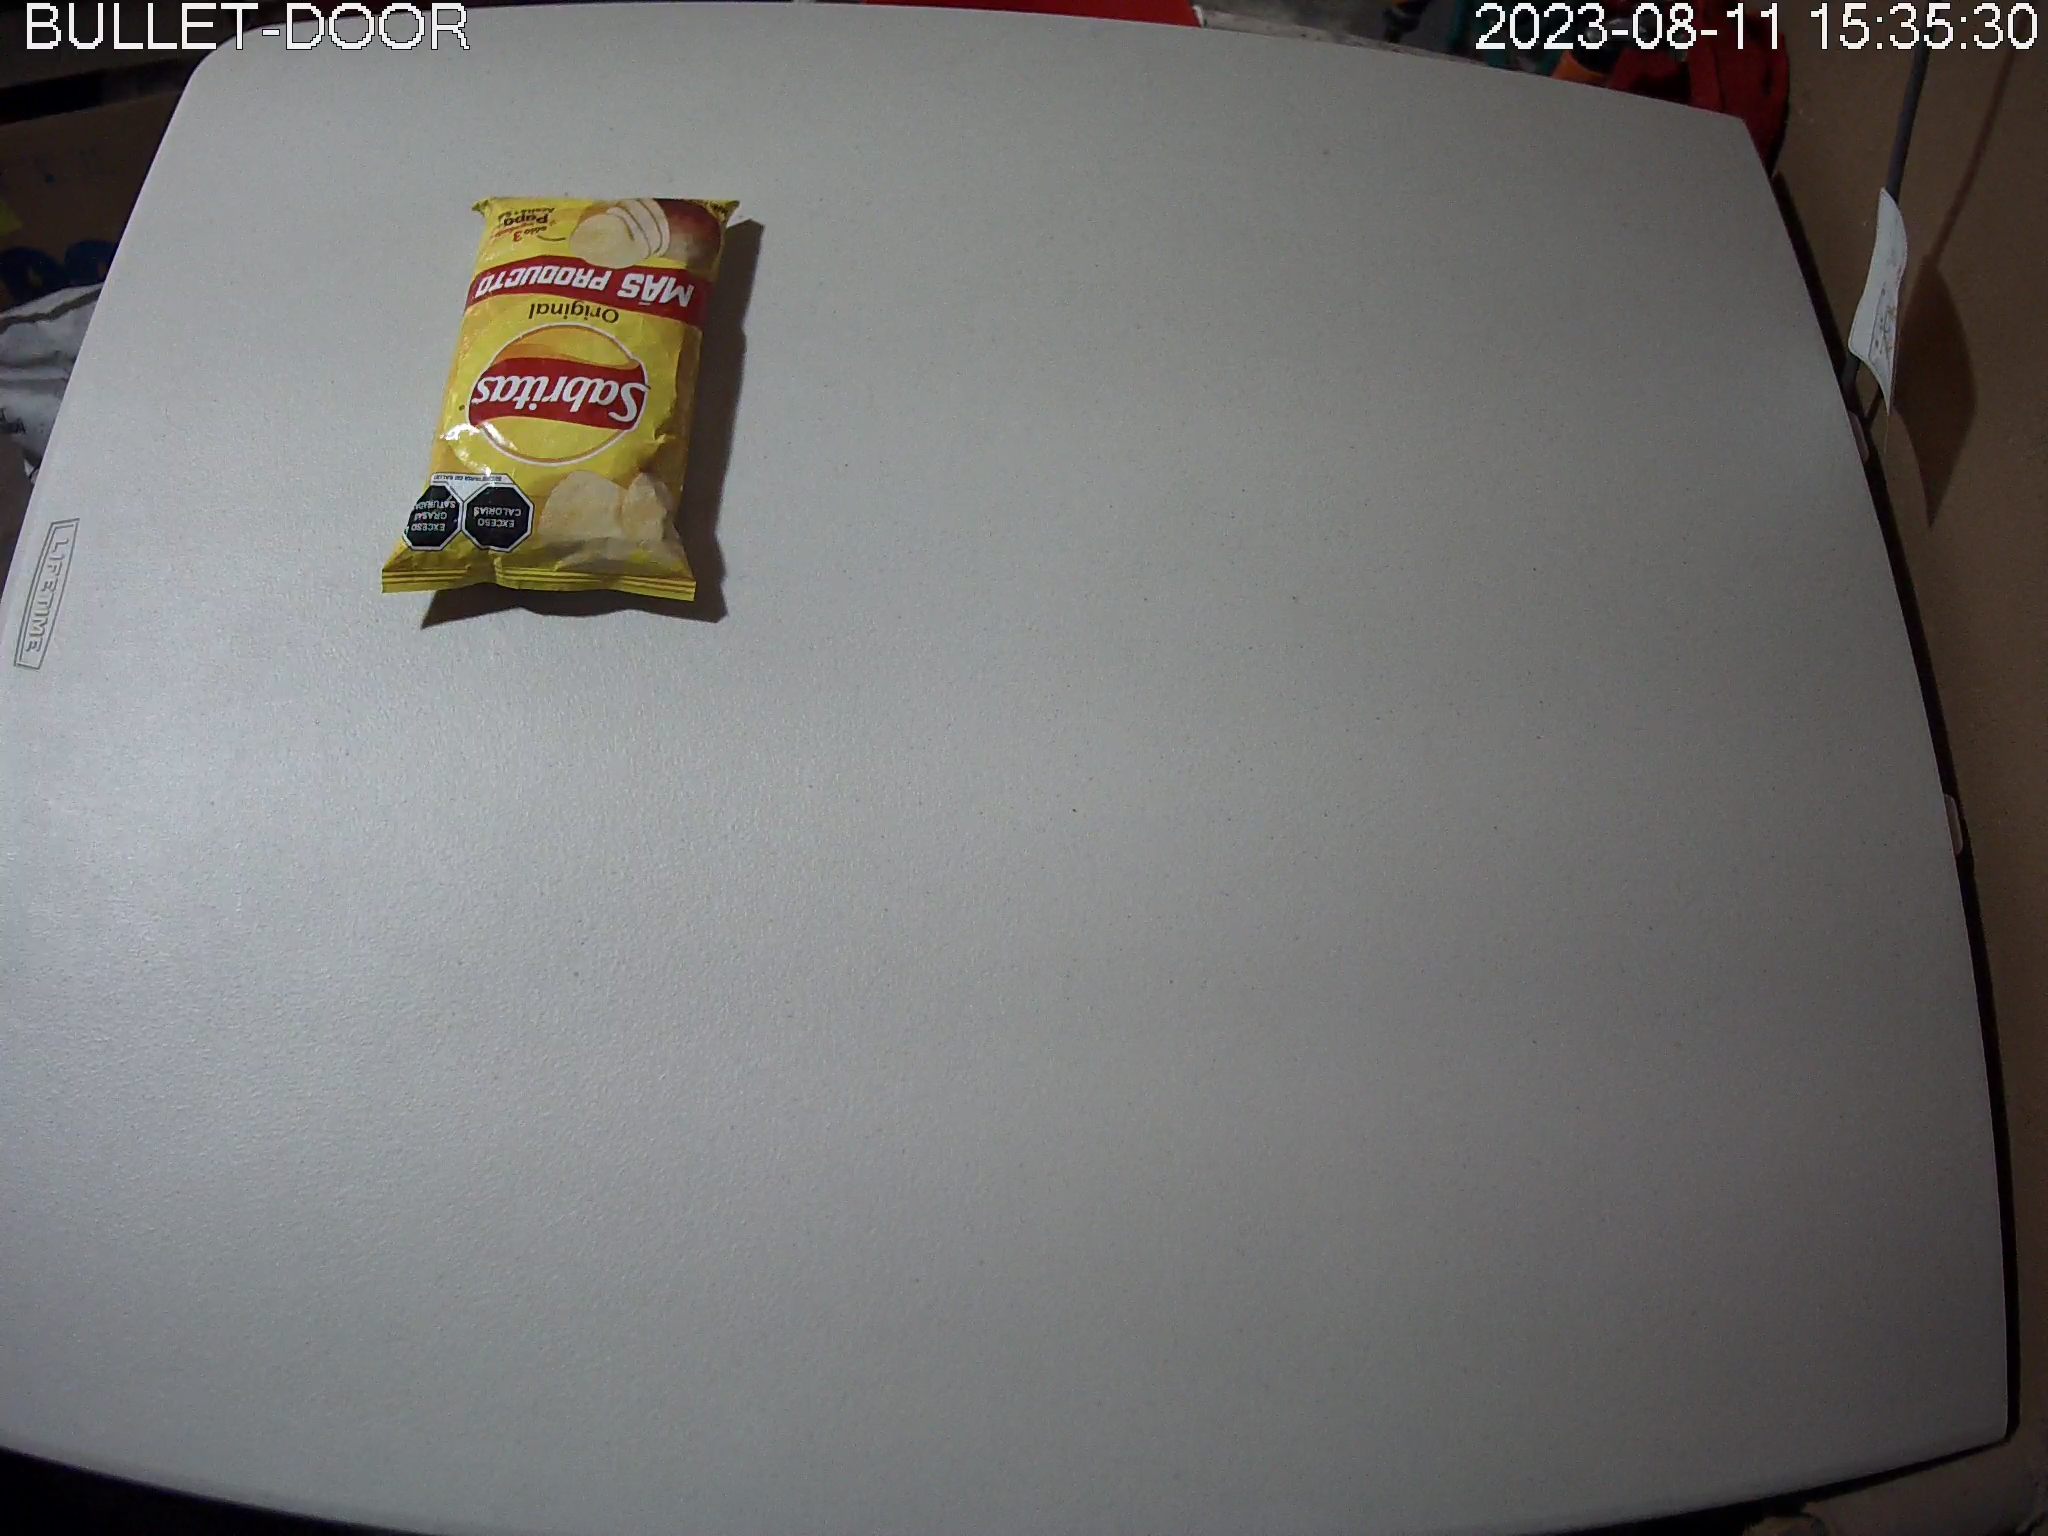Sabritas_45_F: (379, 194, 745, 613)
